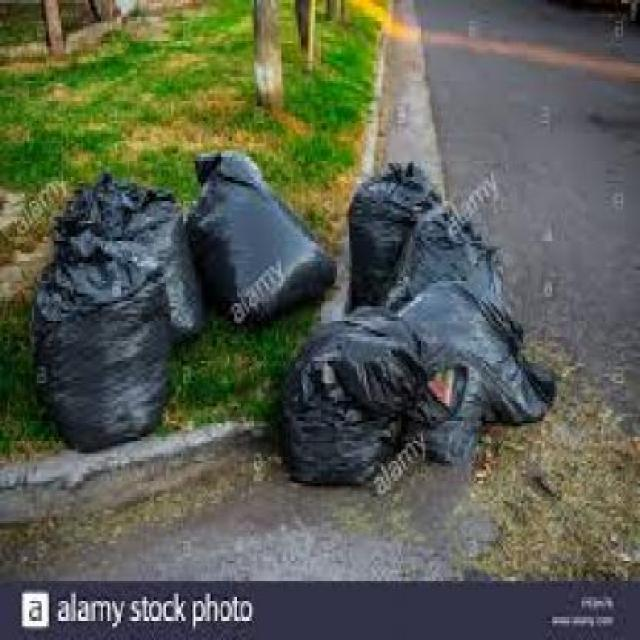garbage: (342, 143, 560, 426), (22, 163, 203, 440), (282, 317, 455, 484), (200, 143, 334, 310)
